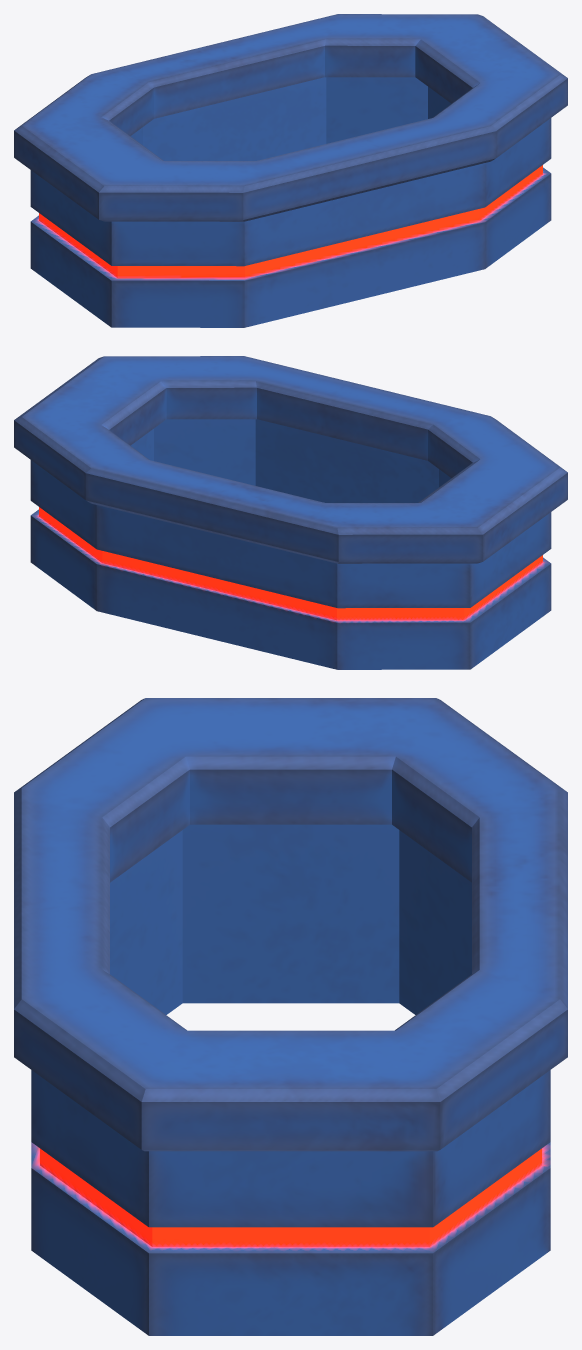
File: Office Table.fbx
3 renders of one model, top to bottom at view 1: azimuth 30°, elevation 25°; view 2: azimuth 150°, elevation 25°; view 3: azimuth 270°, elevation 25°, orthographic. The views are drawn at different scales.
Parts seen in each view (by area): view 1: Office Table; view 2: Office Table; view 3: Office Table.
Boxes of the visible parts, x1,y1,x2,y2 form: Office Table: (14,14,567,327); Office Table: (14,356,567,669); Office Table: (14,698,567,1335).
Bounding box in the file's own units: 252 × 74.05 × 147.
